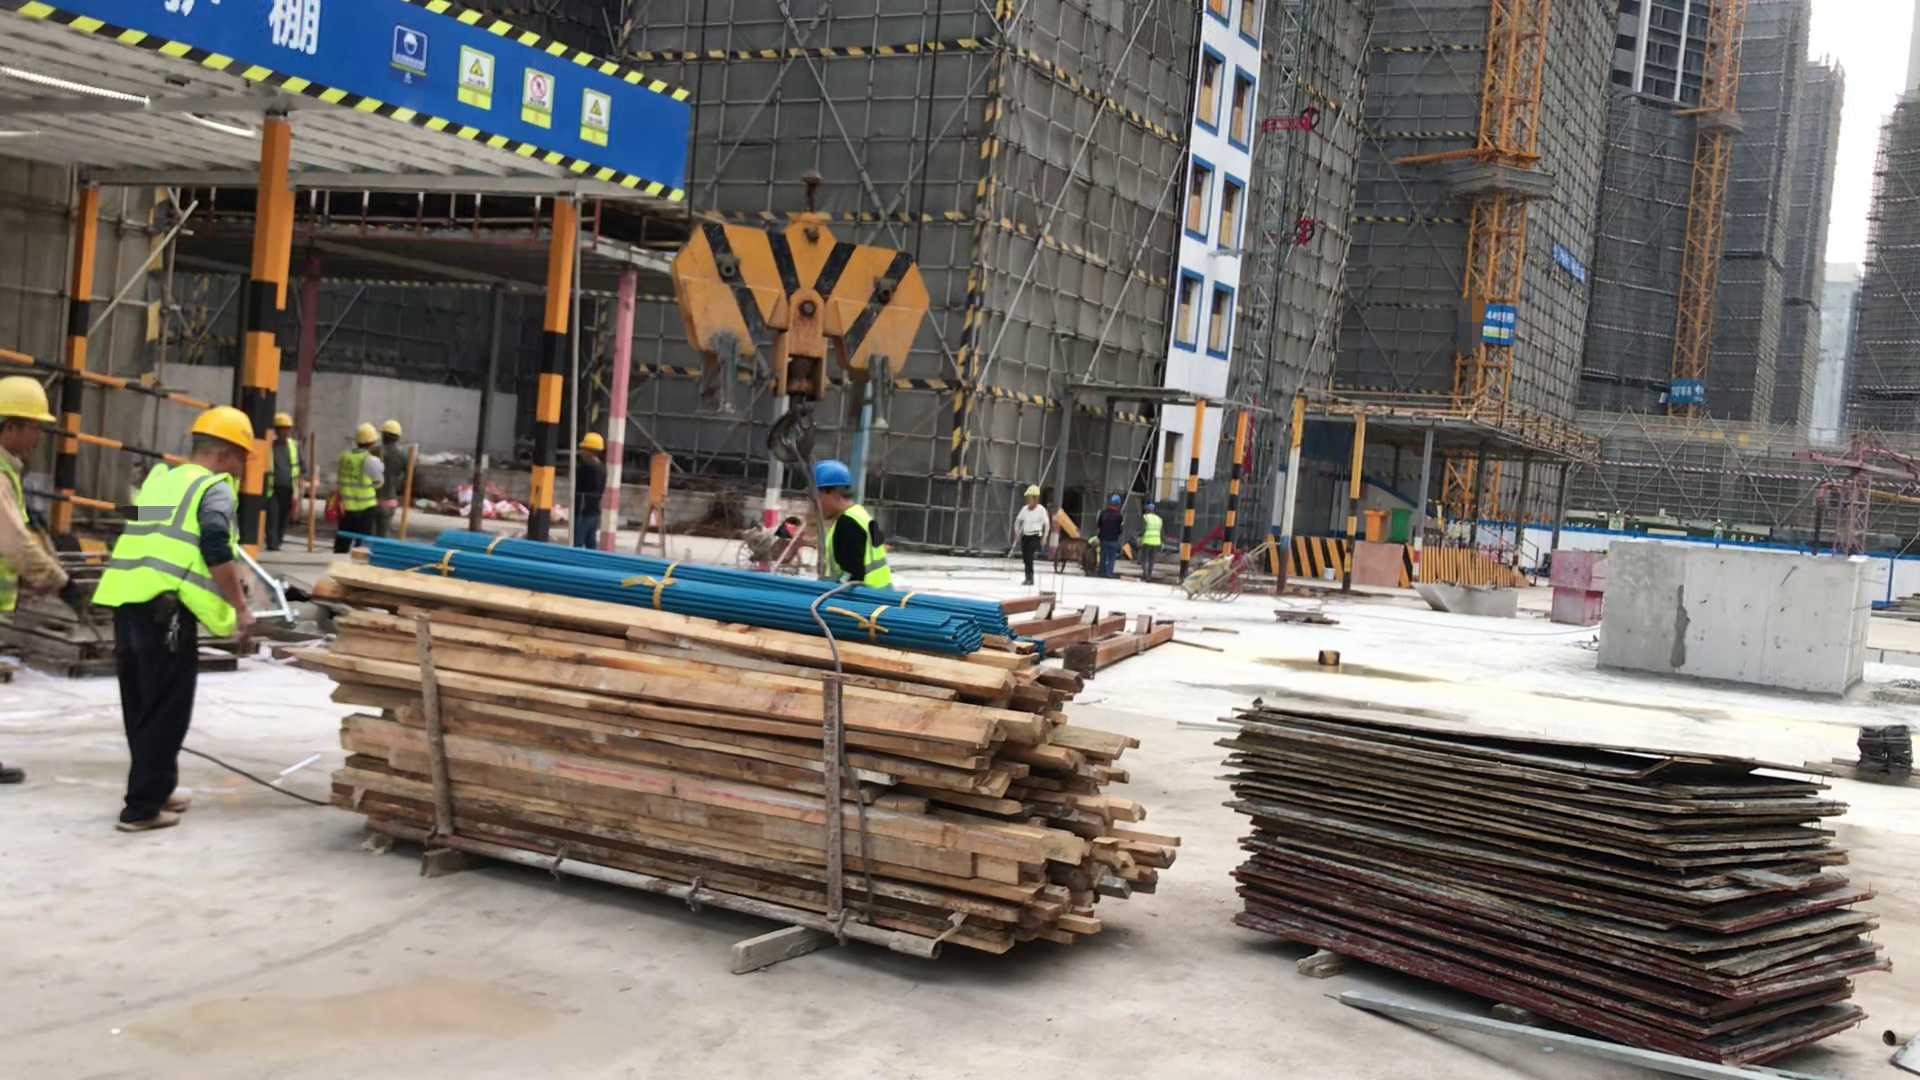helmet: (182, 401, 258, 459), (1, 376, 58, 430), (807, 457, 867, 502), (570, 425, 610, 456), (377, 411, 408, 441), (351, 415, 378, 443), (272, 404, 297, 433), (1019, 480, 1044, 503), (1100, 486, 1122, 510), (1140, 495, 1162, 518)
person: (97, 392, 239, 826), (1, 354, 57, 793), (801, 445, 895, 602), (570, 430, 611, 558), (342, 421, 377, 561), (272, 396, 303, 553), (378, 406, 415, 536), (1013, 476, 1049, 584), (1133, 502, 1172, 579), (1096, 491, 1119, 581)
vest: (122, 458, 215, 637), (825, 522, 895, 583), (344, 450, 371, 513), (1144, 516, 1161, 537)
